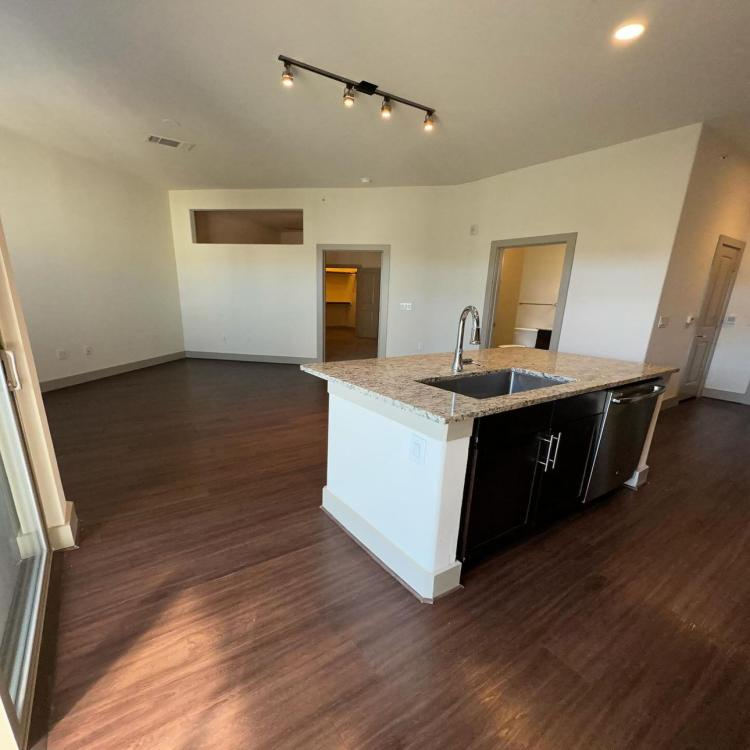ClosedDoor: (690, 228, 743, 414)
OpenDoor: (314, 246, 389, 357), (492, 236, 566, 345)
